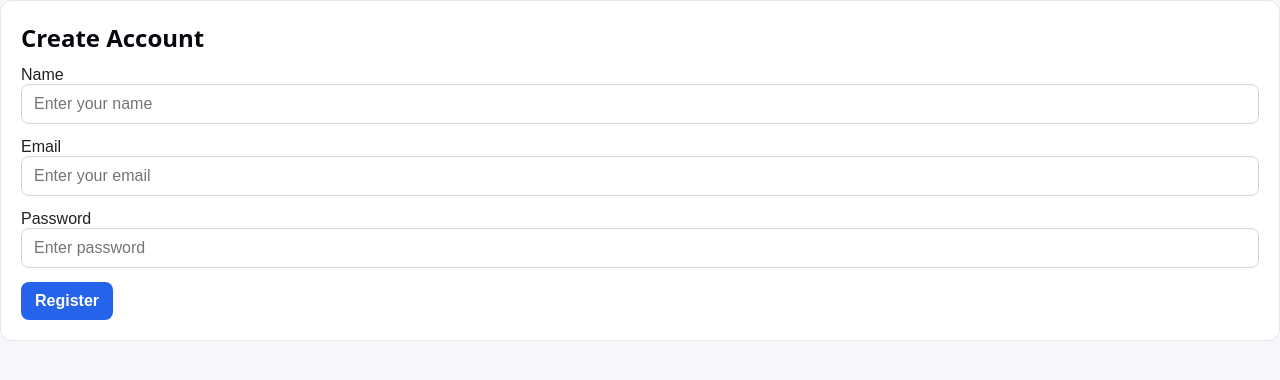
Test: RegisterForm › shows validation error when password is less than 6 characters
Type "Prem" into the field labelled "Name". click: [640, 104]
box: x1=21 y1=84 x2=1259 y2=124
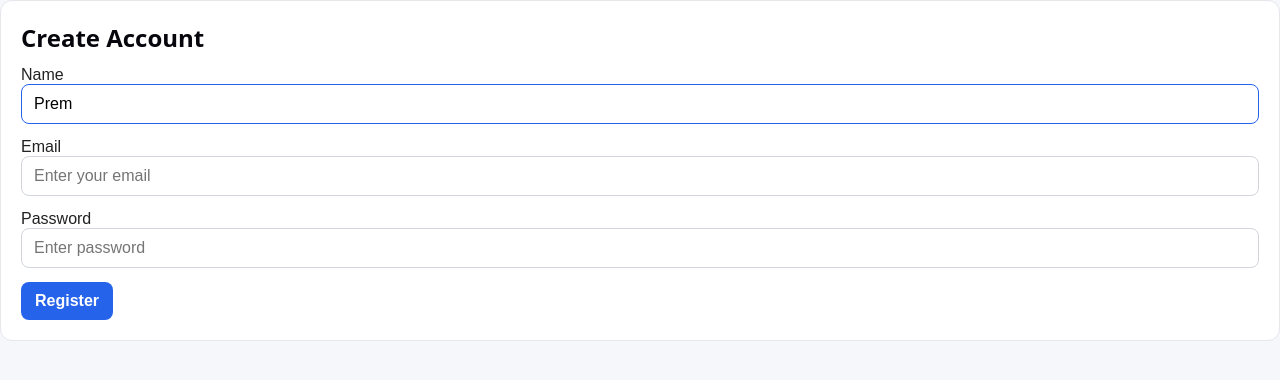
Type "prem@example.com" into the field labelled "Email". click: [640, 176]
box: x1=21 y1=156 x2=1259 y2=196
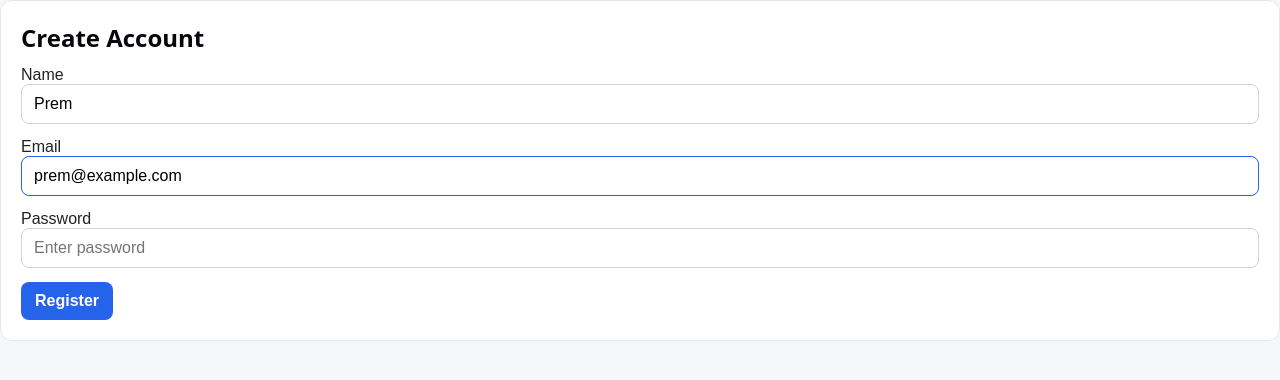
Type "123" into the password field labelled "Password". click: [640, 248]
box: x1=21 y1=228 x2=1259 y2=268
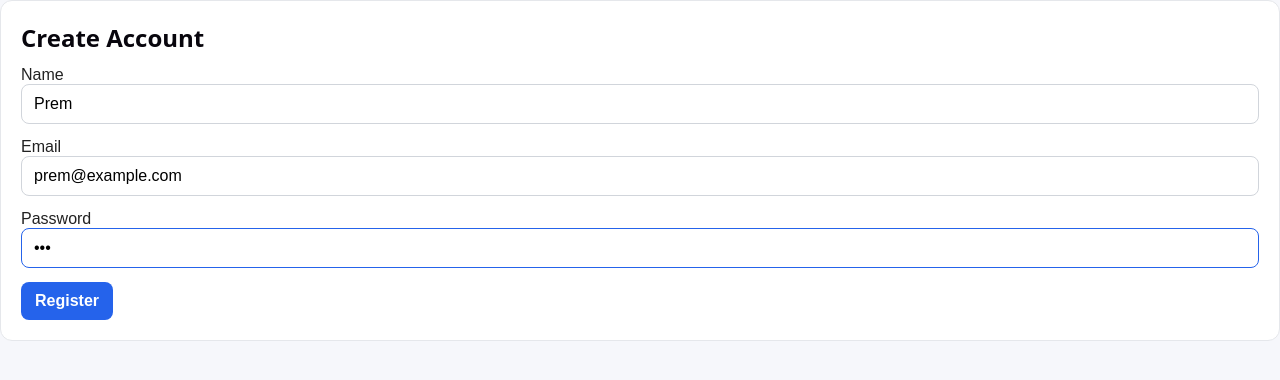
Click the button "Register". click: [67, 301]
box: x1=21 y1=282 x2=113 y2=320
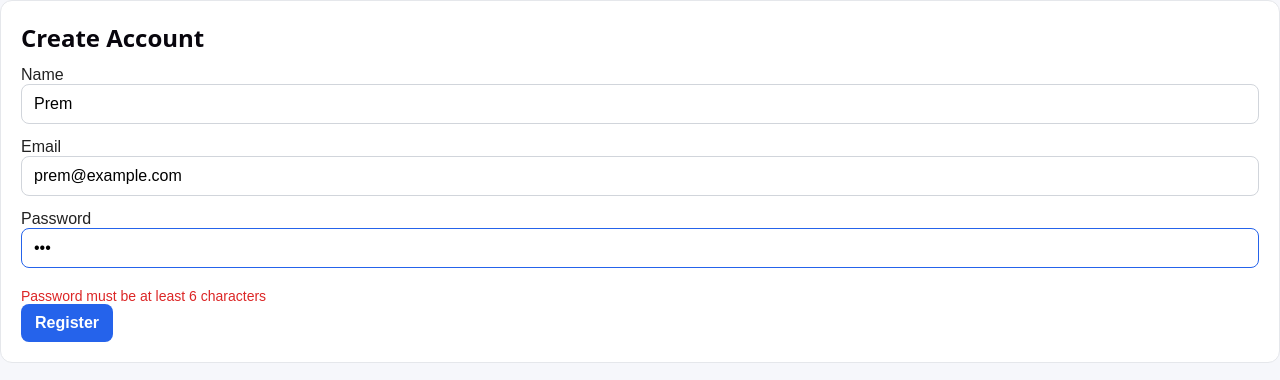
Expected: the text "Password must be at least 6 characters" is shown, x1=21 y1=288 x2=266 y2=304
